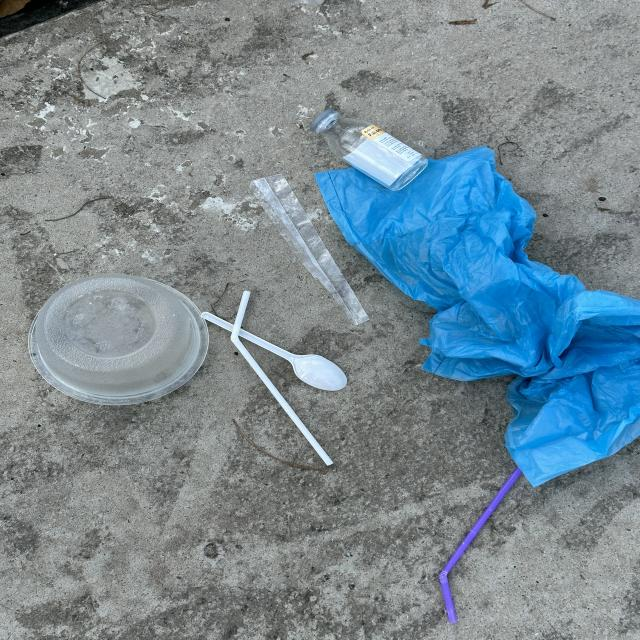bag: (314, 145, 640, 486)
bottle: (308, 110, 424, 191)
drinking straw: (229, 291, 334, 465), (442, 469, 524, 624)
plastic holder: (30, 275, 209, 405)
plastic utensil: (200, 312, 348, 392)
